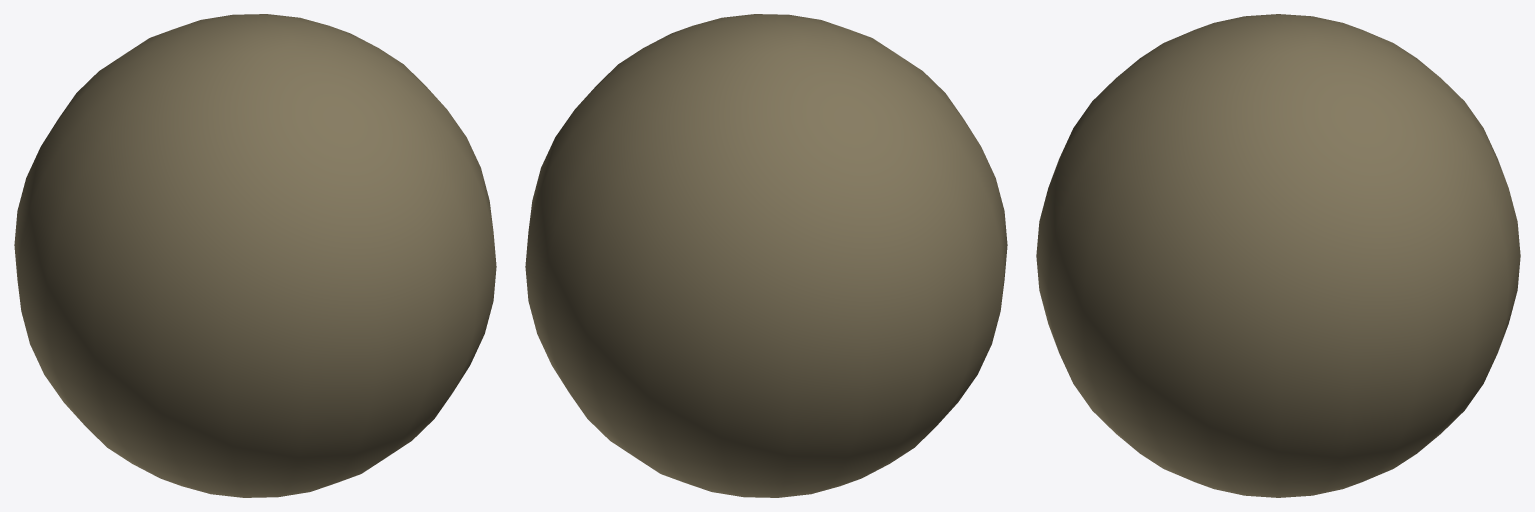
Rendered from HealthPickup.fbx.
The picture shows the model from 3 angles, left to right: view 1: azimuth 30°, elevation 25°; view 2: azimuth 150°, elevation 25°; view 3: azimuth 270°, elevation 25°; orthographic projection.
Parts seen in each view (by area): view 1: PickupShell; view 2: PickupShell; view 3: PickupShell.
Boxes of the visible parts, x1,y1,x2,y2 form: PickupShell: [14, 14, 496, 497]; PickupShell: [525, 14, 1007, 497]; PickupShell: [1036, 14, 1520, 497].
Bounding box in the file's own units: 2 × 2 × 2.
